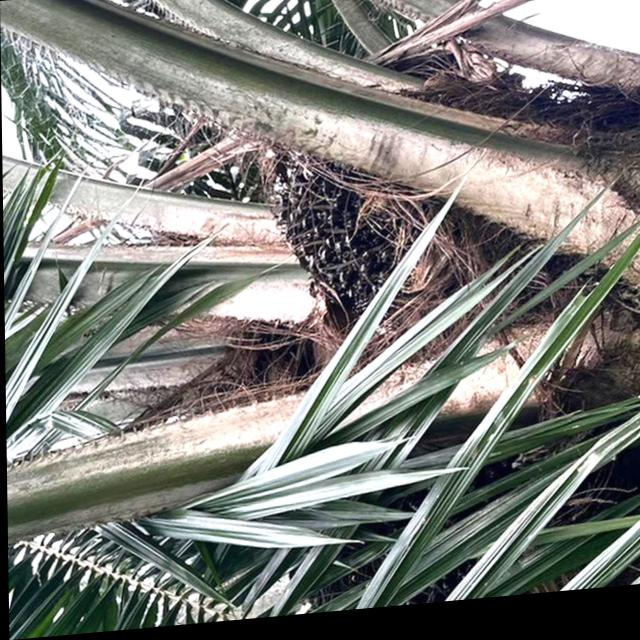unripe: (272, 148, 398, 315)
